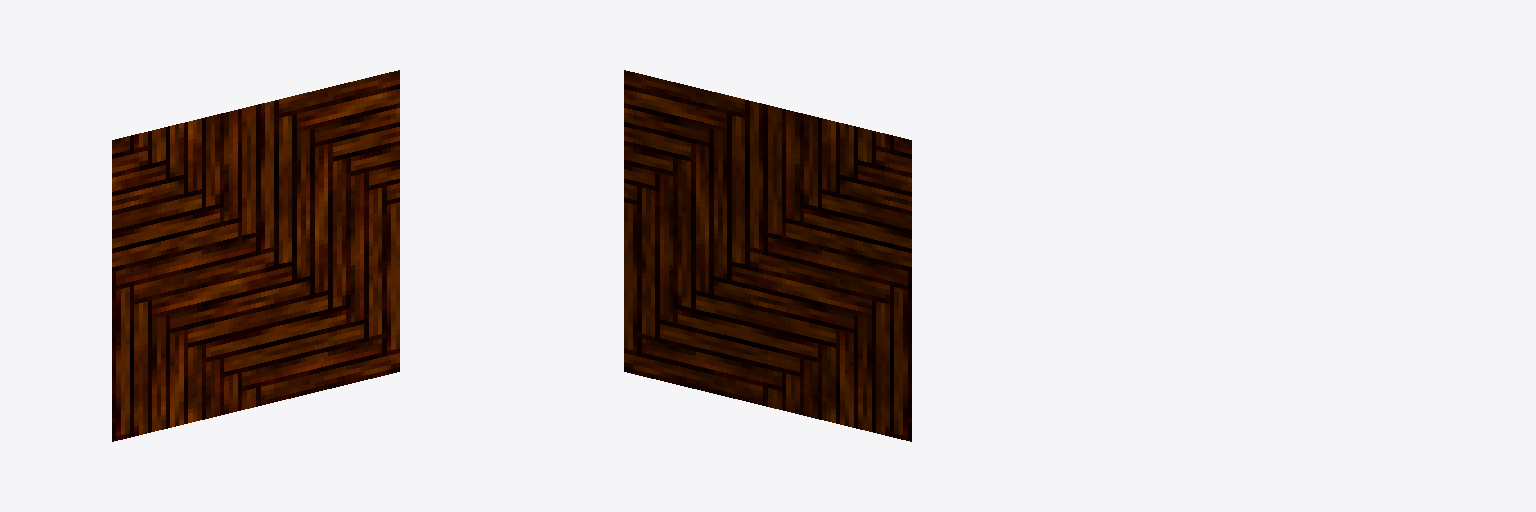
The picture shows the model from 3 angles: view 1: azimuth 30°, elevation 25°; view 2: azimuth 150°, elevation 25°; view 3: azimuth 270°, elevation 25°; orthographic projection.
Parts seen in each view (by area): view 1: HardwoodFloor; view 2: HardwoodFloor; view 3: none.
Part boxes in pixels (x1,y1,x2,y2): HardwoodFloor: (112, 70, 399, 441); HardwoodFloor: (624, 70, 911, 441).
Bounding box in the file's own units: 1 × 1 × 0.
Materials: 1 (1 with a texture image).